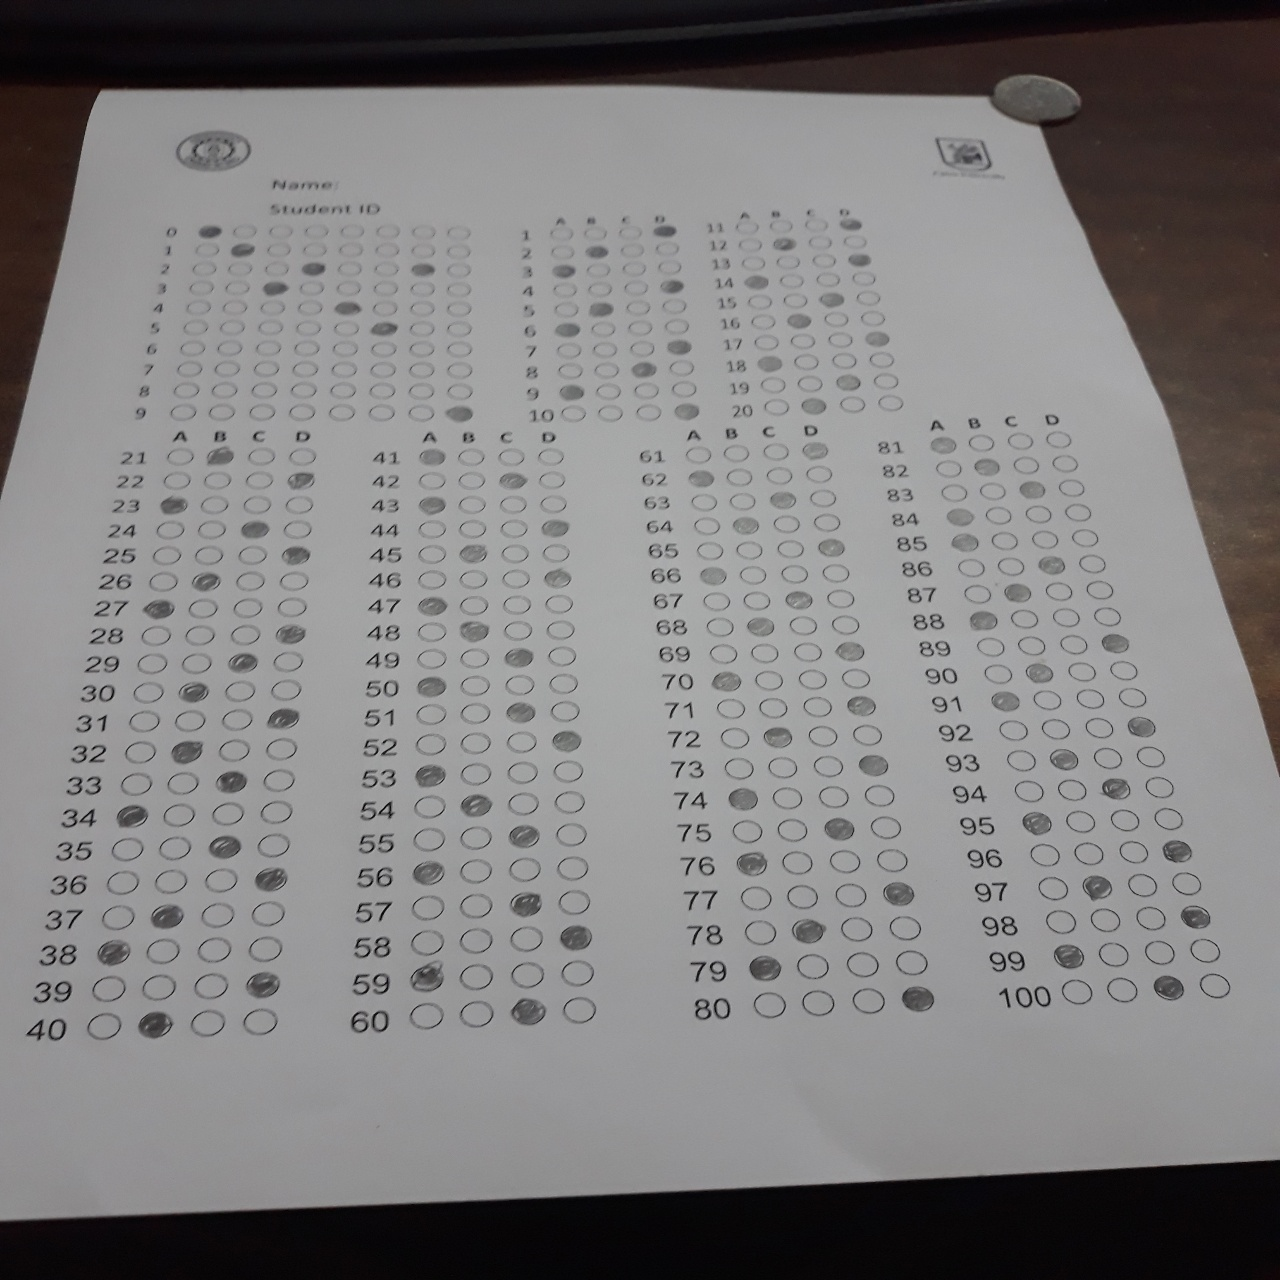not-c: (508, 922, 549, 952), (408, 927, 448, 956), (454, 926, 493, 955), (508, 961, 547, 989), (188, 1009, 227, 1037), (202, 864, 241, 892), (256, 831, 295, 859), (257, 797, 297, 825), (894, 947, 932, 976), (774, 813, 811, 843), (794, 952, 832, 980), (843, 949, 881, 978), (738, 881, 777, 910), (556, 887, 594, 915), (457, 962, 496, 990), (558, 995, 597, 1023), (88, 974, 127, 1002), (139, 973, 178, 1001), (195, 935, 233, 964), (248, 899, 287, 927), (151, 867, 190, 896), (154, 832, 192, 860), (159, 801, 198, 829), (86, 1012, 125, 1039), (100, 903, 139, 930), (851, 985, 888, 1013), (798, 988, 836, 1016), (886, 912, 924, 940), (743, 919, 781, 947), (784, 881, 822, 910), (874, 846, 912, 874), (778, 847, 816, 876), (730, 816, 768, 844), (866, 812, 904, 840), (408, 1000, 445, 1028), (458, 1000, 496, 1028), (191, 971, 229, 999), (248, 933, 286, 961), (207, 799, 245, 828), (557, 958, 595, 985), (241, 1007, 280, 1034), (144, 937, 183, 964), (199, 900, 238, 927), (102, 869, 141, 896), (108, 835, 147, 862), (835, 880, 871, 908), (838, 915, 876, 942), (753, 990, 789, 1017), (826, 847, 863, 874), (765, 753, 799, 779), (166, 769, 200, 796), (120, 771, 154, 798), (811, 751, 846, 777), (723, 755, 758, 781), (260, 767, 295, 792), (816, 783, 850, 809), (770, 784, 804, 810), (852, 721, 886, 747), (806, 722, 840, 748), (719, 723, 753, 749), (862, 782, 897, 806), (458, 892, 493, 917), (411, 894, 447, 919), (229, 622, 263, 647), (1062, 978, 1092, 1005), (554, 822, 587, 846), (508, 857, 540, 881), (265, 736, 299, 760), (222, 708, 256, 731), (175, 707, 209, 730), (127, 708, 161, 731), (123, 741, 157, 764), (131, 679, 165, 702), (222, 680, 256, 703), (179, 652, 213, 675), (134, 651, 168, 674), (137, 622, 171, 646), (186, 597, 220, 620), (231, 597, 265, 620), (275, 568, 309, 592), (233, 568, 267, 592), (1189, 938, 1220, 962), (458, 761, 490, 785), (508, 791, 539, 816), (557, 856, 588, 880), (757, 695, 790, 719), (801, 695, 833, 719), (754, 668, 787, 692), (552, 758, 585, 782), (413, 794, 445, 817), (413, 828, 445, 851), (459, 825, 492, 849), (458, 859, 491, 883), (186, 622, 219, 646), (147, 568, 179, 592), (268, 678, 302, 700), (271, 651, 305, 673), (274, 594, 308, 617), (1037, 874, 1068, 899), (1198, 973, 1228, 998), (1006, 748, 1037, 771), (1126, 872, 1158, 896), (1170, 871, 1201, 894), (1089, 907, 1121, 931), (1044, 908, 1076, 932), (1143, 940, 1175, 964), (1105, 978, 1137, 1001), (840, 666, 872, 689), (791, 639, 823, 662), (457, 731, 492, 753), (506, 761, 542, 782), (504, 729, 539, 750), (554, 790, 586, 813), (707, 642, 740, 665), (415, 646, 448, 668), (546, 645, 579, 667), (549, 700, 581, 722), (415, 702, 448, 724), (217, 737, 250, 760), (155, 518, 188, 540), (459, 702, 493, 723), (1144, 774, 1175, 797), (1109, 808, 1139, 831), (1153, 806, 1184, 830), (1029, 842, 1060, 865), (1135, 906, 1165, 930), (1135, 744, 1166, 767), (1014, 779, 1046, 802), (1097, 941, 1129, 964), (715, 696, 747, 719), (796, 667, 828, 689), (748, 641, 779, 663), (505, 673, 537, 695), (458, 646, 491, 667), (413, 733, 445, 754), (284, 493, 316, 515), (245, 445, 278, 467), (1064, 809, 1094, 832), (1092, 745, 1123, 768), (1118, 839, 1149, 862), (1073, 840, 1103, 863), (703, 615, 735, 636), (806, 486, 838, 508), (496, 445, 527, 467), (455, 445, 486, 467), (549, 670, 580, 692), (459, 675, 491, 696), (243, 493, 275, 513), (202, 469, 234, 489), (159, 470, 192, 490), (1056, 777, 1085, 799), (498, 493, 529, 515), (456, 493, 486, 515), (1075, 688, 1107, 708), (998, 719, 1029, 738), (830, 613, 862, 633), (740, 590, 771, 610), (821, 563, 852, 583), (775, 538, 806, 558), (803, 463, 835, 483), (726, 490, 757, 510), (720, 443, 751, 463), (537, 445, 568, 465), (455, 469, 486, 489), (537, 493, 568, 513), (502, 568, 533, 588), (544, 620, 576, 640), (544, 593, 576, 613), (236, 544, 267, 564), (195, 520, 226, 540), (282, 518, 314, 538), (199, 495, 231, 515), (1032, 688, 1062, 708), (1085, 716, 1116, 736), (826, 587, 857, 607), (701, 590, 731, 610), (736, 564, 767, 584), (777, 563, 808, 583), (735, 539, 765, 559), (695, 539, 726, 559), (692, 515, 722, 535), (771, 513, 802, 533), (811, 512, 842, 532), (726, 467, 756, 486), (685, 443, 715, 463), (760, 440, 790, 459), (416, 470, 447, 490), (457, 518, 488, 538), (417, 519, 448, 539), (497, 542, 527, 561), (542, 543, 572, 563), (417, 568, 448, 588), (458, 568, 489, 588), (458, 595, 489, 615), (193, 544, 224, 564), (152, 545, 183, 565), (287, 445, 318, 465), (788, 615, 819, 634), (536, 470, 567, 489), (502, 595, 533, 614), (503, 620, 535, 639), (1118, 686, 1148, 706), (1065, 661, 1096, 680), (1109, 660, 1139, 679), (1041, 719, 1071, 737), (764, 465, 795, 484), (688, 491, 719, 510), (497, 519, 527, 538), (417, 544, 448, 563), (415, 622, 445, 641), (165, 445, 196, 464), (968, 433, 996, 452), (1051, 452, 1080, 472), (978, 481, 1006, 501), (976, 636, 1005, 656), (877, 392, 905, 411), (245, 471, 277, 489), (1085, 579, 1115, 598), (1092, 606, 1122, 625), (1032, 529, 1058, 549), (998, 556, 1024, 576), (964, 583, 990, 602), (831, 350, 862, 368), (788, 332, 818, 349), (753, 333, 783, 350), (779, 291, 810, 308), (748, 313, 778, 331), (1012, 455, 1040, 474), (934, 458, 962, 477), (983, 505, 1012, 524), (1064, 502, 1092, 520), (990, 530, 1019, 549), (958, 557, 986, 576), (1078, 554, 1107, 573), (1010, 608, 1039, 627), (1060, 633, 1088, 652), (1016, 635, 1044, 654), (983, 663, 1012, 682), (838, 393, 866, 411), (763, 397, 791, 416), (172, 380, 200, 399), (210, 380, 238, 399), (251, 380, 279, 399), (792, 353, 822, 370), (745, 292, 775, 309), (1058, 477, 1085, 496), (1024, 504, 1051, 523), (1073, 527, 1099, 546), (447, 381, 474, 400), (795, 375, 825, 392), (871, 372, 901, 388), (822, 309, 852, 326), (1046, 430, 1074, 448), (1007, 431, 1035, 449), (940, 483, 968, 501), (1053, 607, 1081, 625), (826, 331, 855, 348), (813, 270, 842, 287), (168, 404, 196, 422), (329, 381, 358, 399), (369, 381, 397, 399), (445, 299, 474, 316), (561, 404, 587, 423), (867, 350, 897, 367), (859, 308, 888, 325), (855, 288, 884, 305), (777, 271, 806, 287), (1046, 581, 1073, 599), (670, 379, 697, 396), (633, 381, 660, 399), (248, 402, 275, 420), (290, 381, 316, 399), (447, 360, 474, 377), (409, 360, 436, 377), (292, 360, 319, 377), (253, 359, 280, 376), (215, 359, 241, 376), (256, 338, 282, 355), (331, 340, 358, 358), (372, 340, 399, 358), (409, 339, 436, 356), (257, 319, 284, 336), (222, 297, 248, 314), (767, 216, 795, 232), (547, 224, 576, 240), (618, 241, 646, 258), (628, 339, 656, 355), (207, 404, 236, 421), (445, 280, 474, 297), (302, 223, 331, 239), (230, 222, 258, 238), (595, 381, 621, 399), (598, 403, 624, 421), (636, 403, 662, 421), (370, 360, 396, 377), (410, 319, 436, 336), (410, 298, 436, 315), (260, 299, 286, 316), (220, 318, 246, 335), (775, 252, 802, 268), (738, 234, 765, 251), (592, 361, 619, 377), (368, 404, 395, 421), (328, 403, 355, 420), (290, 403, 316, 420), (331, 360, 358, 376), (177, 360, 204, 376), (181, 339, 207, 355), (294, 339, 321, 355), (445, 340, 472, 356), (445, 320, 472, 336), (295, 319, 322, 335), (297, 299, 324, 315), (188, 279, 215, 295), (374, 279, 401, 295), (411, 280, 438, 297), (410, 222, 437, 238), (810, 252, 838, 267), (840, 233, 869, 248), (733, 218, 761, 233), (652, 240, 680, 256), (580, 225, 608, 240), (620, 261, 648, 277), (656, 259, 685, 274), (552, 301, 580, 316), (662, 316, 690, 332), (588, 321, 617, 336), (591, 342, 619, 358), (557, 362, 585, 377), (668, 359, 696, 374), (445, 260, 474, 275), (445, 225, 474, 240), (339, 222, 367, 237), (300, 241, 328, 257), (224, 260, 252, 275), (191, 260, 219, 275), (267, 224, 295, 239), (409, 404, 435, 421), (217, 339, 243, 355), (373, 300, 399, 316), (334, 320, 360, 336), (184, 318, 210, 334), (224, 278, 250, 294), (377, 222, 403, 238), (760, 376, 787, 392), (850, 270, 877, 285), (740, 254, 767, 270), (802, 216, 829, 231), (617, 224, 644, 239), (549, 243, 576, 258), (624, 280, 651, 295), (584, 263, 611, 278), (586, 281, 613, 297), (624, 299, 651, 314), (661, 297, 688, 312), (627, 319, 654, 334), (556, 342, 583, 358), (335, 280, 362, 295), (336, 260, 363, 275), (372, 260, 399, 275), (411, 243, 438, 258), (445, 243, 472, 258), (375, 241, 402, 257), (195, 241, 222, 257), (267, 241, 294, 257), (409, 382, 434, 399), (806, 234, 835, 248), (551, 282, 579, 297), (264, 261, 292, 275), (339, 241, 365, 257), (188, 299, 212, 314), (300, 281, 325, 295)
taken-c: (148, 903, 186, 930), (251, 865, 288, 892), (95, 937, 132, 964), (408, 964, 445, 990), (554, 922, 592, 949), (508, 891, 545, 918), (456, 791, 493, 818), (138, 1012, 175, 1039), (246, 971, 282, 998), (512, 998, 549, 1024), (410, 857, 447, 884), (506, 822, 543, 849), (409, 760, 445, 787), (856, 753, 893, 778), (898, 986, 935, 1012), (1176, 904, 1213, 930), (1047, 745, 1084, 771), (1123, 713, 1160, 738), (1095, 629, 1132, 655), (724, 787, 761, 812), (1049, 942, 1085, 968), (988, 688, 1024, 714), (1019, 659, 1055, 685), (205, 833, 243, 858), (733, 850, 770, 874), (788, 918, 825, 942), (745, 955, 783, 980), (1149, 974, 1186, 999), (821, 816, 857, 840), (880, 881, 917, 906), (1158, 837, 1194, 862), (1017, 811, 1054, 836), (1097, 775, 1133, 799), (1080, 873, 1115, 898), (457, 619, 490, 644), (783, 588, 818, 611), (456, 542, 489, 565), (845, 695, 881, 716), (503, 701, 537, 723), (550, 729, 584, 751), (502, 645, 536, 667), (413, 675, 447, 697), (537, 517, 572, 538), (497, 470, 532, 491), (416, 493, 451, 515), (416, 445, 451, 467), (730, 515, 765, 536), (797, 440, 832, 461), (813, 537, 849, 558), (695, 565, 730, 586), (709, 670, 744, 692), (831, 640, 866, 661), (215, 771, 247, 794), (760, 726, 794, 747), (274, 622, 306, 645), (171, 740, 203, 762), (116, 804, 148, 826), (744, 617, 779, 636), (768, 489, 802, 509), (226, 652, 258, 673), (267, 710, 299, 731), (179, 682, 211, 703), (542, 567, 573, 588), (416, 595, 447, 617), (143, 599, 175, 619), (685, 468, 717, 486), (945, 508, 975, 527), (971, 457, 1002, 476), (205, 445, 234, 465), (158, 495, 188, 515), (1037, 553, 1067, 573), (949, 533, 979, 553), (1016, 481, 1046, 501), (967, 611, 998, 629), (1001, 583, 1032, 601), (286, 470, 315, 489), (191, 572, 220, 591), (928, 434, 958, 452), (241, 520, 270, 539), (754, 355, 783, 373), (195, 222, 224, 239), (282, 545, 312, 563), (629, 361, 658, 377), (550, 263, 578, 279), (445, 406, 474, 422), (372, 321, 400, 338), (263, 280, 291, 297), (670, 403, 700, 418), (588, 301, 618, 316), (557, 383, 586, 399), (835, 374, 862, 390), (552, 322, 580, 338), (408, 260, 436, 275), (299, 261, 327, 277), (332, 301, 360, 316), (229, 241, 257, 257), (651, 222, 678, 237), (863, 331, 888, 346), (788, 312, 813, 327), (770, 234, 797, 248), (658, 278, 685, 292), (667, 340, 694, 354), (839, 215, 864, 230), (846, 251, 871, 266), (819, 291, 844, 306), (744, 273, 769, 288), (801, 397, 826, 411), (583, 245, 611, 258)
